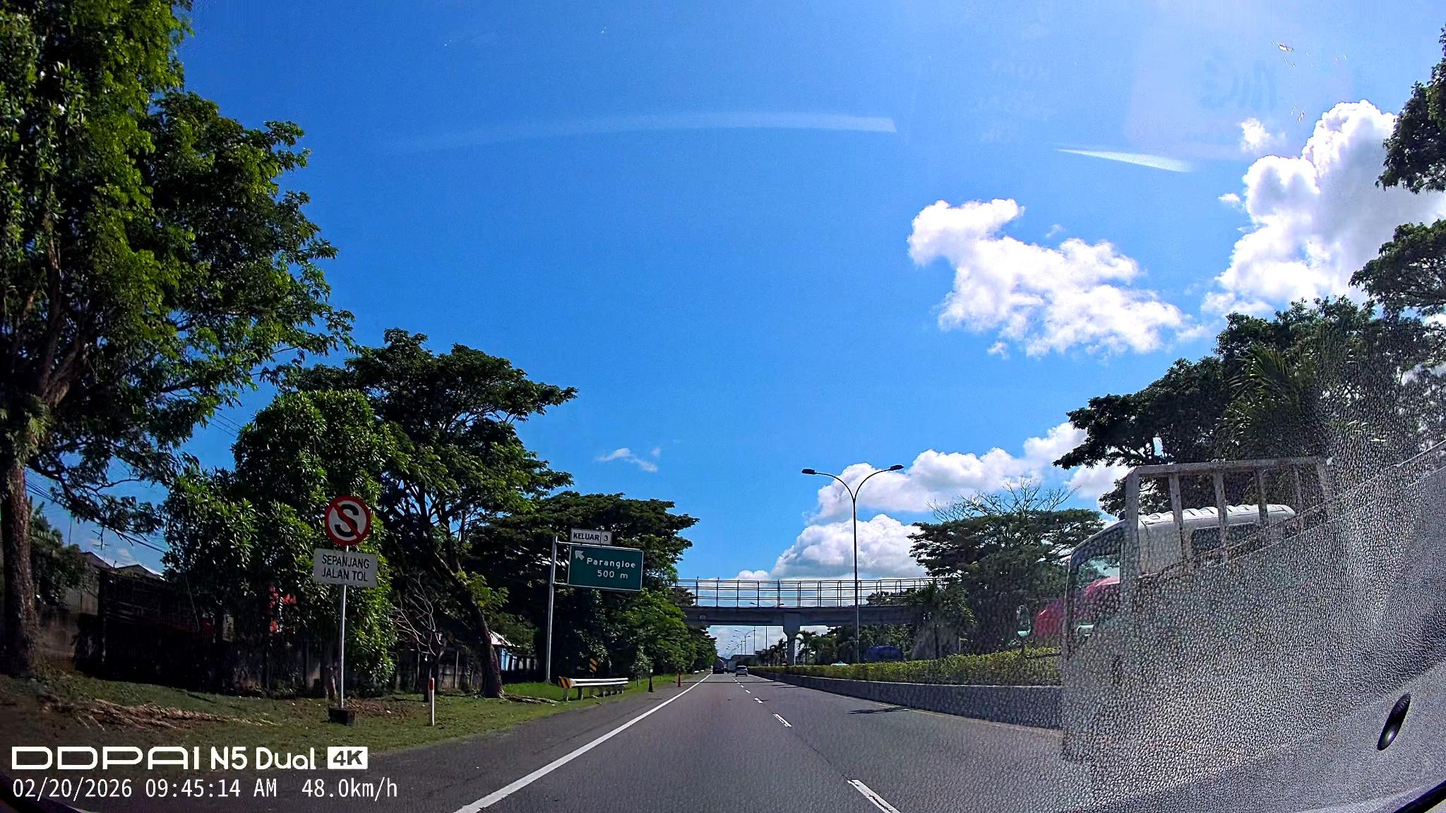rambu_teks: (566, 544, 644, 592)
